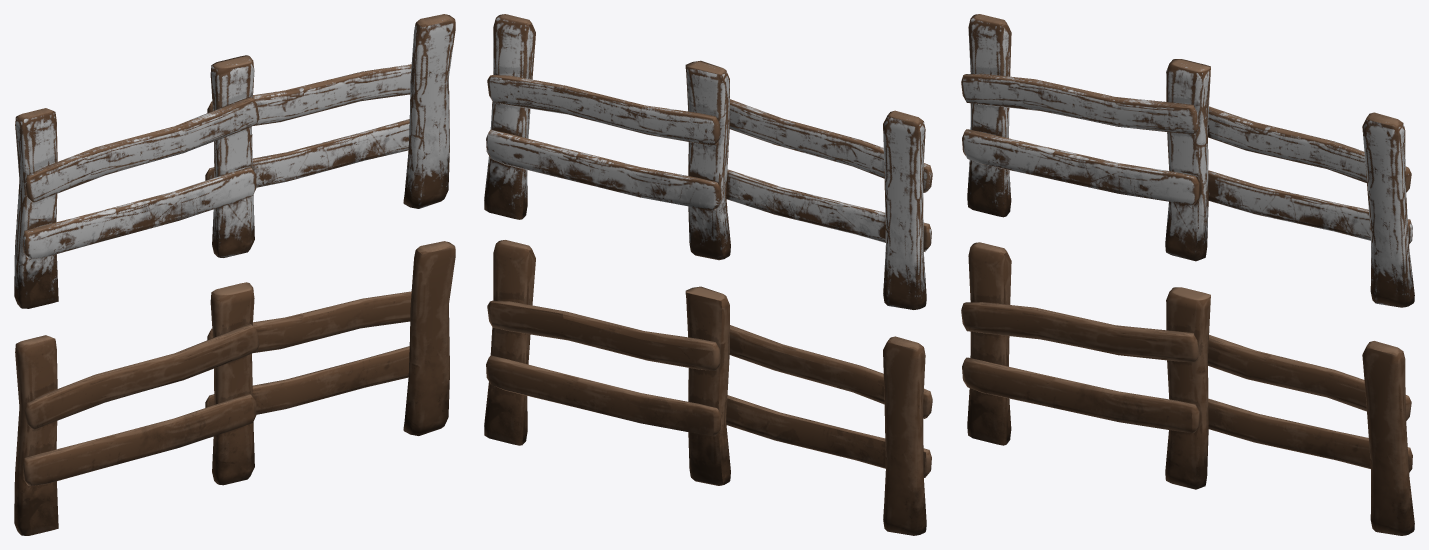
The model's file is stylized_fence.glb.
The picture shows the model from 3 angles, left to right: view 1: azimuth 30°, elevation 25°; view 2: azimuth 150°, elevation 25°; view 3: azimuth 330°, elevation 25°; orthographic projection.
Parts seen in each view (by area): view 1: g Group3428_02 - Default_0, g Group3428_01 - Default_0; view 2: g Group3428_02 - Default_0, g Group3428_01 - Default_0; view 3: g Group3428_01 - Default_0, g Group3428_02 - Default_0.
Boxes of the visible parts, x1,y1,x2,y2 form: g Group3428_02 - Default_0: [14, 14, 455, 308]; g Group3428_01 - Default_0: [14, 241, 455, 535]; g Group3428_02 - Default_0: [484, 14, 932, 309]; g Group3428_01 - Default_0: [484, 240, 932, 535]; g Group3428_01 - Default_0: [961, 242, 1414, 535]; g Group3428_02 - Default_0: [961, 14, 1414, 307].
Bounding box in the file's own units: 311 × 287 × 28.7.
2 materials, 2 textured.
